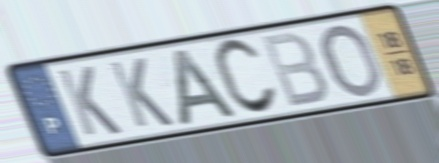A: (170, 46, 243, 129)
B: (257, 29, 332, 111)
C: (211, 36, 281, 119)
K: (53, 63, 126, 139), (105, 55, 177, 131)
O: (319, 22, 387, 100)
